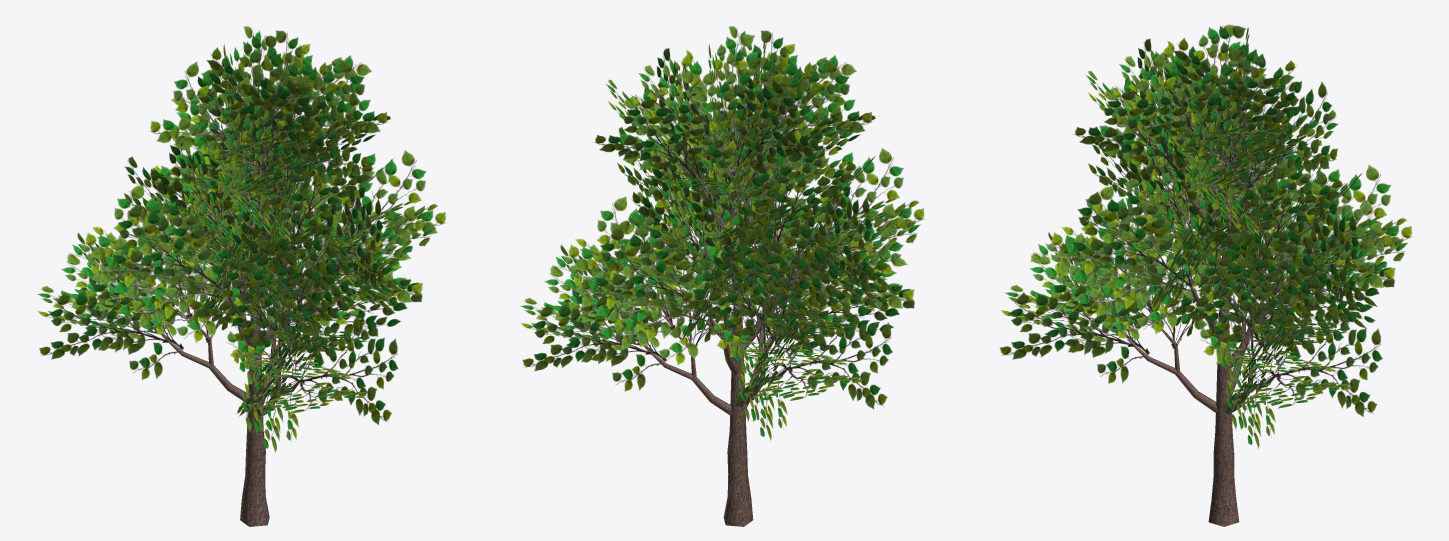
Rendered from tree3.gltf.
3 views of the same model, side by side, from view 1: azimuth 30°, elevation 25°; view 2: azimuth 150°, elevation 25°; view 3: azimuth 270°, elevation 25° (orthographic).
Parts seen in each view (by area): view 1: _LOD0; view 2: _LOD0; view 3: _LOD0.
Part boxes in pixels (x1=…): _LOD0: x1=37, y1=26, x2=446, y2=526; _LOD0: x1=520, y1=26, x2=924, y2=526; _LOD0: x1=1000, y1=24, x2=1412, y2=526.
Bounding box in the file's own units: 80.62 × 94.07 × 79.32.
Materials: 1 (1 with a texture image).
